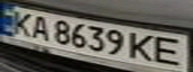3: (84, 24, 106, 54)
6: (66, 21, 90, 50)
8: (48, 18, 72, 46)
9: (103, 27, 130, 57)
A: (24, 12, 54, 41)
E: (151, 34, 190, 68)
K: (127, 30, 160, 63), (3, 8, 39, 37)
